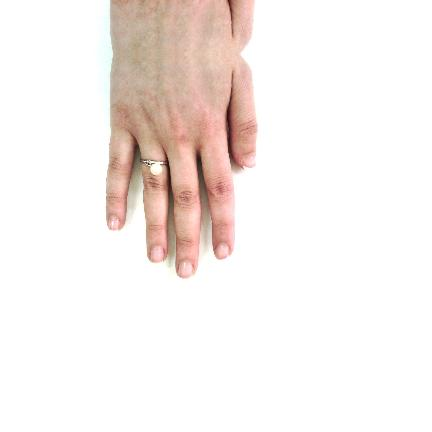Nail: (177, 261, 194, 279), (215, 244, 230, 260), (150, 246, 164, 263), (241, 152, 256, 167), (107, 216, 120, 231)
